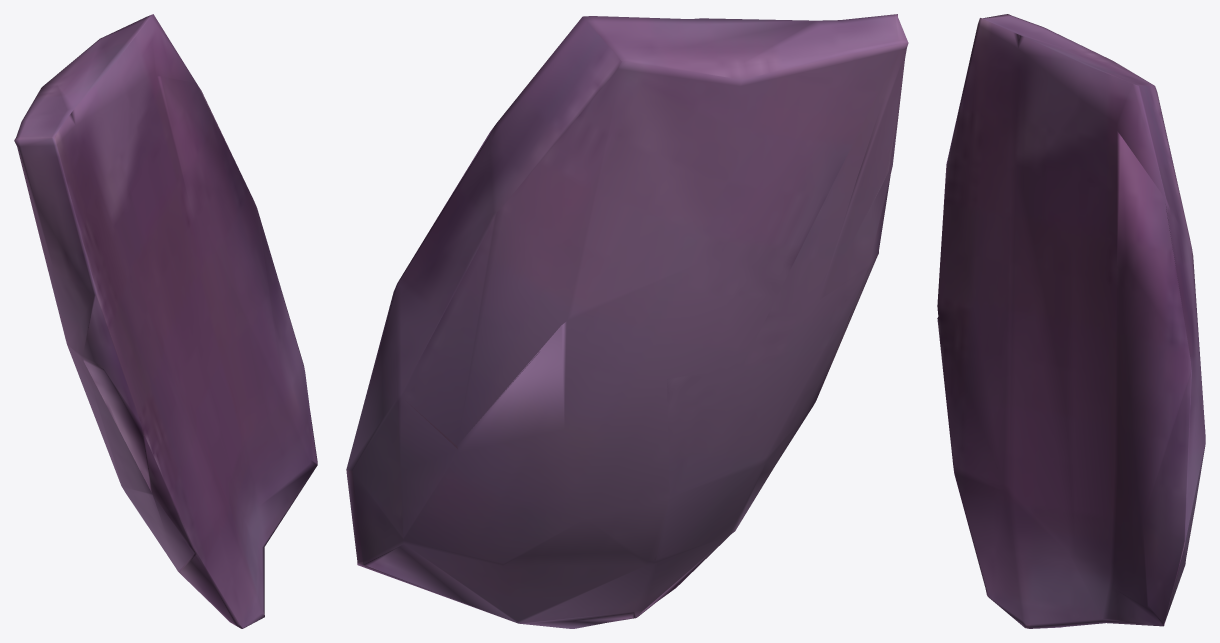
3 views of the same model, side by side, from view 1: azimuth 30°, elevation 25°; view 2: azimuth 150°, elevation 25°; view 3: azimuth 270°, elevation 25° (orthographic). The views are drawn at different scales.
Visible parts, largest first — view 1: tripo_part_18; view 2: tripo_part_18; view 3: tripo_part_18.
Boxes of the visible parts, x1,y1,x2,y2 form: tripo_part_18: [14, 14, 317, 628]; tripo_part_18: [346, 14, 908, 628]; tripo_part_18: [937, 14, 1205, 628].
Bounding box in the file's own units: 0.0668 × 0.0936 × 0.0438.
Materials: 1 (1 with a texture image).
